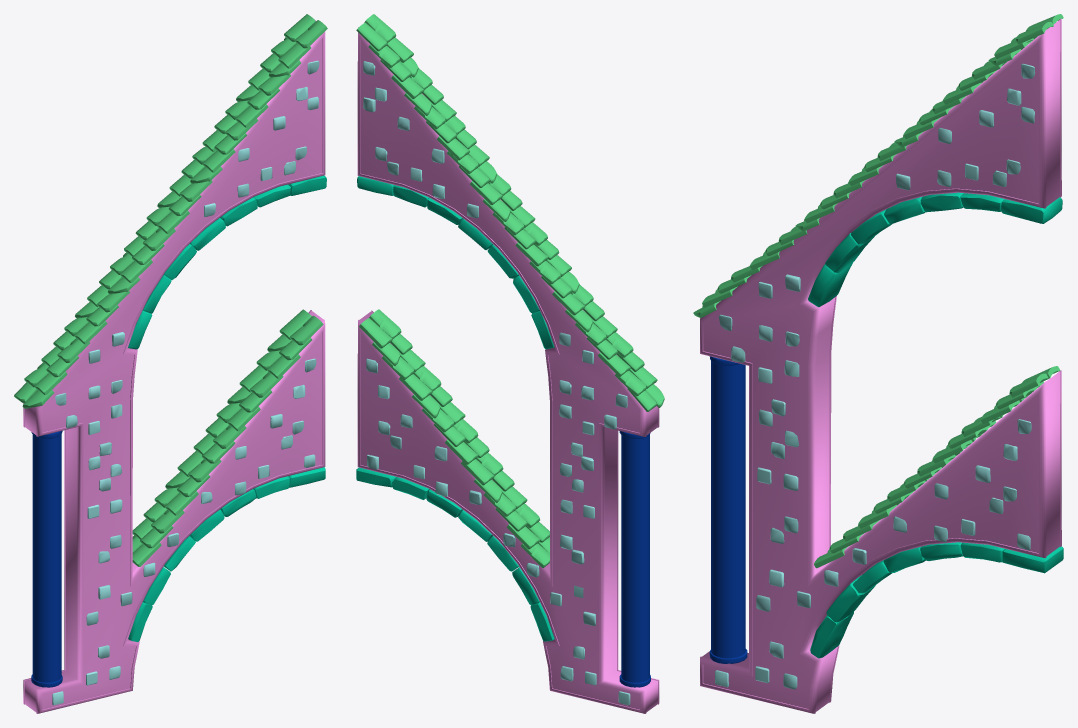
The model's file is arch01.fbx.
The picture shows the model from 3 angles, left to right: view 1: azimuth 30°, elevation 25°; view 2: azimuth 150°, elevation 25°; view 3: azimuth 330°, elevation 25°; orthographic projection. The views are drawn at different scales.
Visible parts, largest first — view 1: arch01; view 2: arch01; view 3: arch01.
Boxes of the visible parts, x1,y1,x2,y2 form: arch01: (14,14,327,713); arch01: (356,14,664,713); arch01: (693,14,1063,713).
Bounding box in the file's own units: 8.02 × 15.99 × 0.9529.
